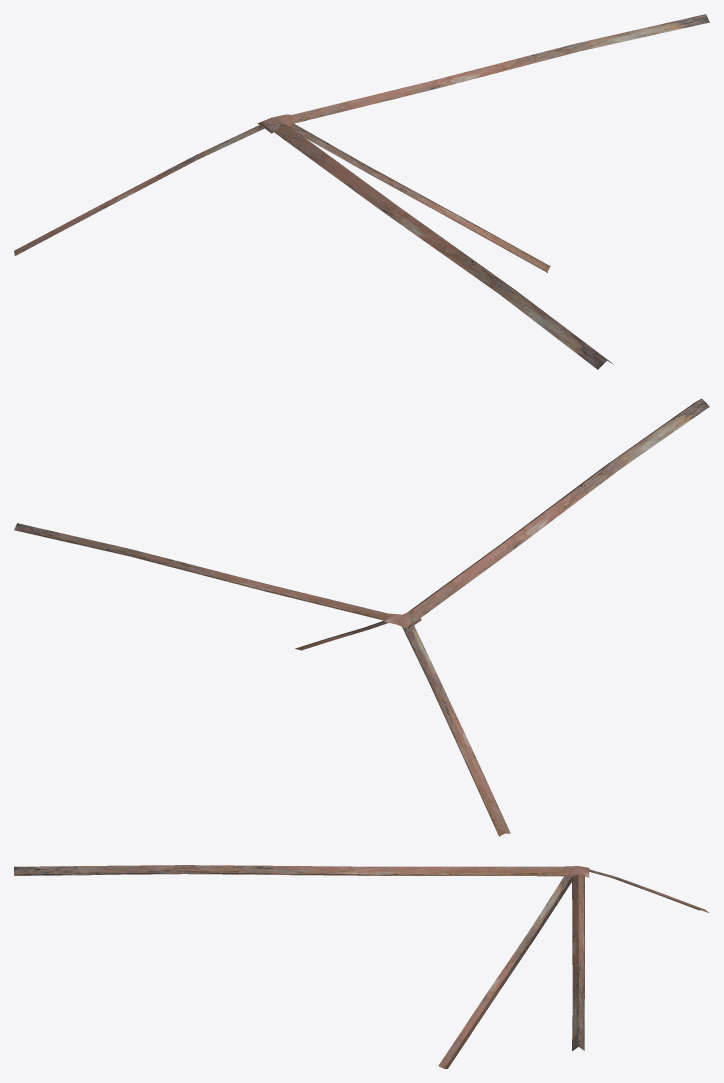
Rendered from Peak_03_Form2.fbx.
3 views of the same model, one above another, from view 1: azimuth 30°, elevation 25°; view 2: azimuth 150°, elevation 25°; view 3: azimuth 270°, elevation 25° (orthographic). The views are drawn at different scales.
Parts seen in each view (by area): view 1: Peak_03_Form2; view 2: Peak_03_Form2; view 3: Peak_03_Form2.
Part boxes in pixels (box(x1,y1,x2,y2)): Peak_03_Form2: box(14, 14, 709, 369); Peak_03_Form2: box(14, 398, 709, 836); Peak_03_Form2: box(14, 865, 709, 1068).
Bounding box in the file's own units: 1497 × 1708 × 337.
Materials: 1 (1 with a texture image).
